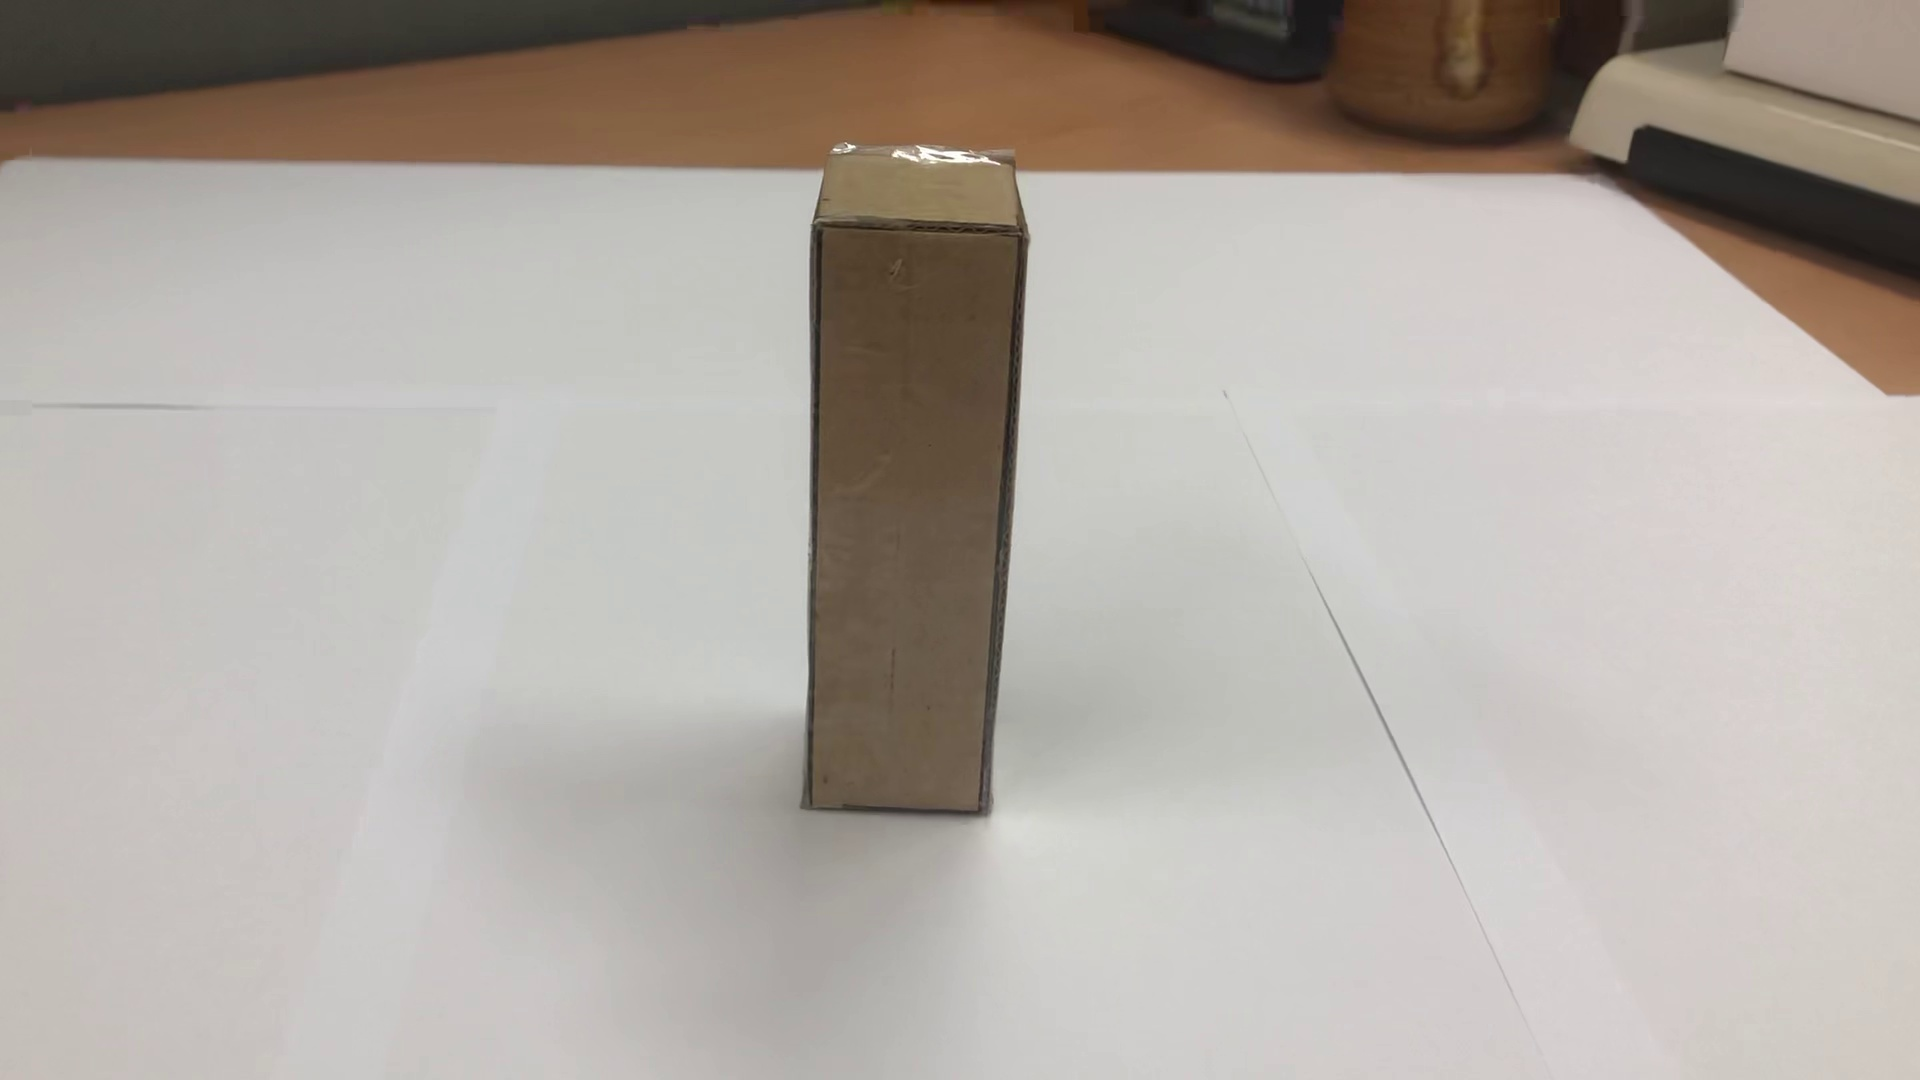box: (735, 105, 1055, 856)
